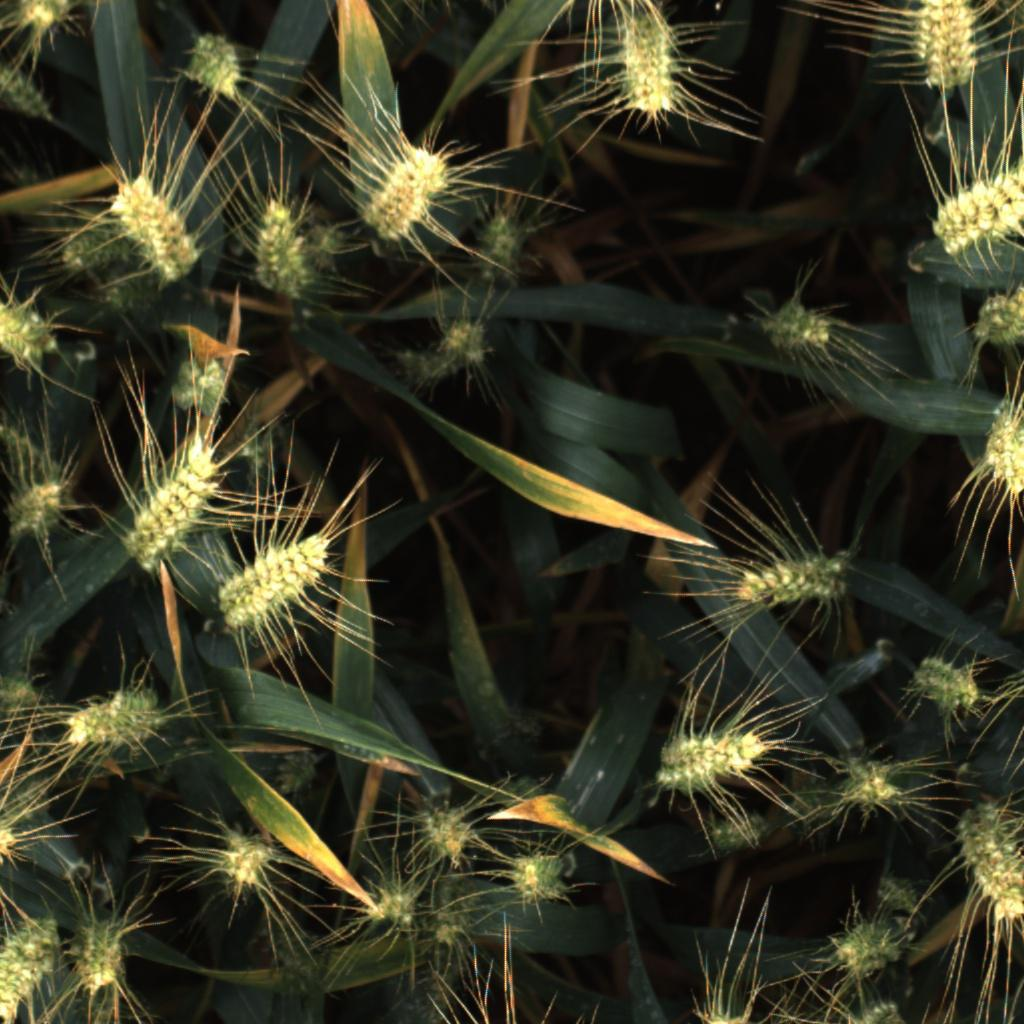0-0: (118, 431, 236, 571), (108, 157, 209, 285), (224, 537, 344, 629), (357, 145, 467, 244), (951, 796, 1024, 930), (932, 159, 1024, 265), (236, 192, 318, 295), (733, 540, 855, 607), (653, 723, 767, 793), (251, 906, 336, 999), (623, 9, 691, 122), (60, 687, 171, 754), (905, 0, 984, 93), (1, 906, 60, 1024), (174, 28, 252, 108), (5, 464, 83, 543), (758, 290, 847, 358), (46, 211, 120, 291), (426, 868, 487, 960), (910, 646, 984, 721), (825, 916, 909, 981), (0, 283, 59, 372), (164, 352, 236, 417), (209, 837, 284, 899), (467, 207, 525, 287), (73, 919, 129, 1001), (481, 691, 547, 754), (703, 805, 773, 863), (0, 58, 56, 129), (420, 795, 476, 866), (354, 874, 418, 936), (831, 757, 901, 813), (509, 846, 570, 910), (287, 201, 343, 270), (982, 405, 1024, 495), (385, 337, 447, 397), (974, 281, 1024, 354), (435, 314, 499, 368), (264, 743, 324, 799), (6, 0, 79, 46), (0, 659, 51, 724), (865, 867, 927, 912), (835, 996, 902, 1024)
